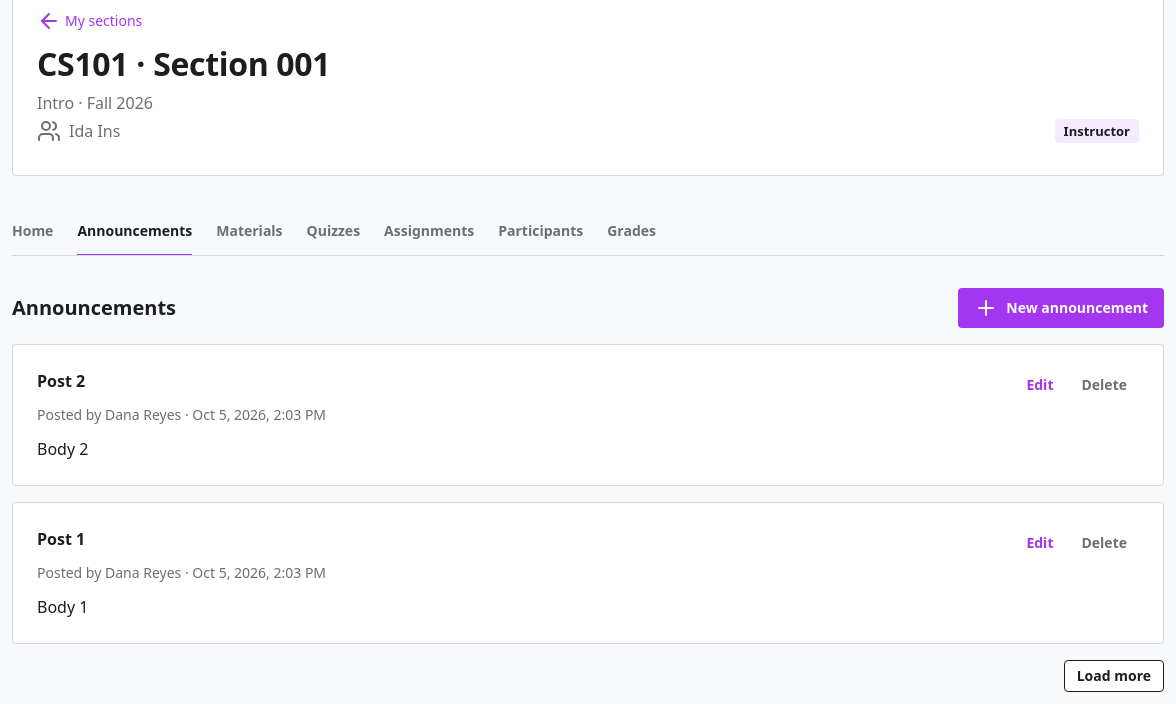
Test: loads more with the cursor
The width and height of the screenshot is (1176, 704).
Click the button "Load more" at (1114, 676), box x1=1064 y1=660 x2=1164 y2=692
(page scrolled)
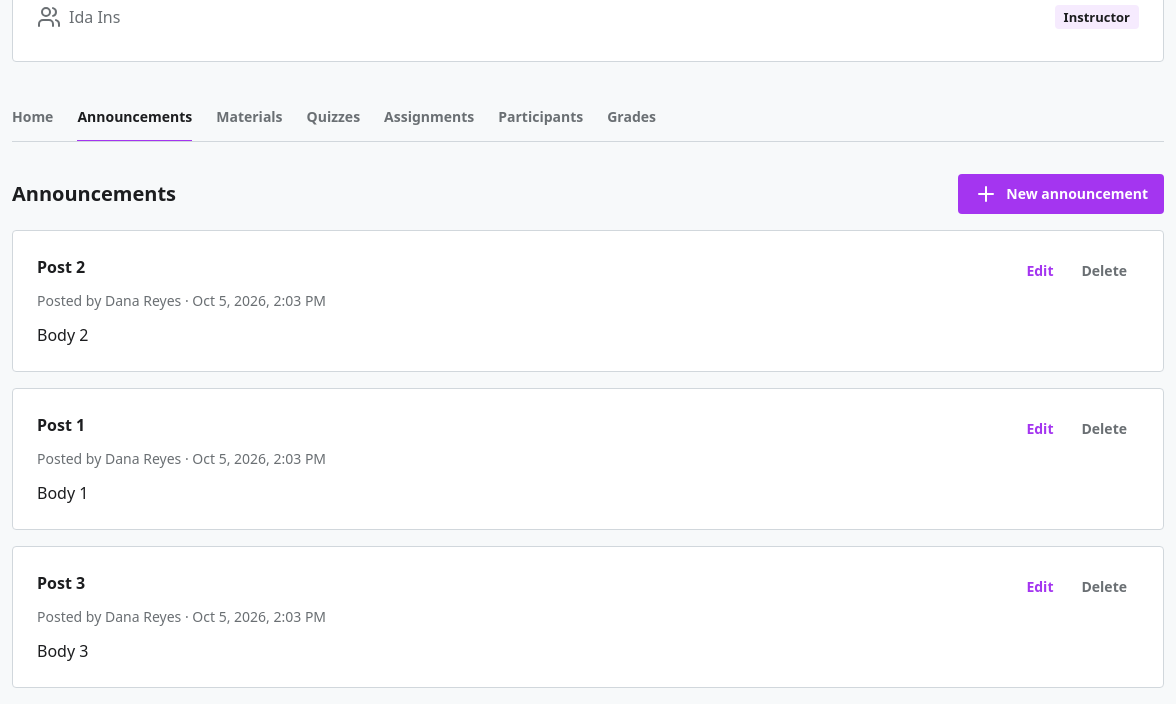
Expected: the heading "Post 3" is shown, x1=37 y1=571 x2=85 y2=595
Expected: the button "Load more" is gone
